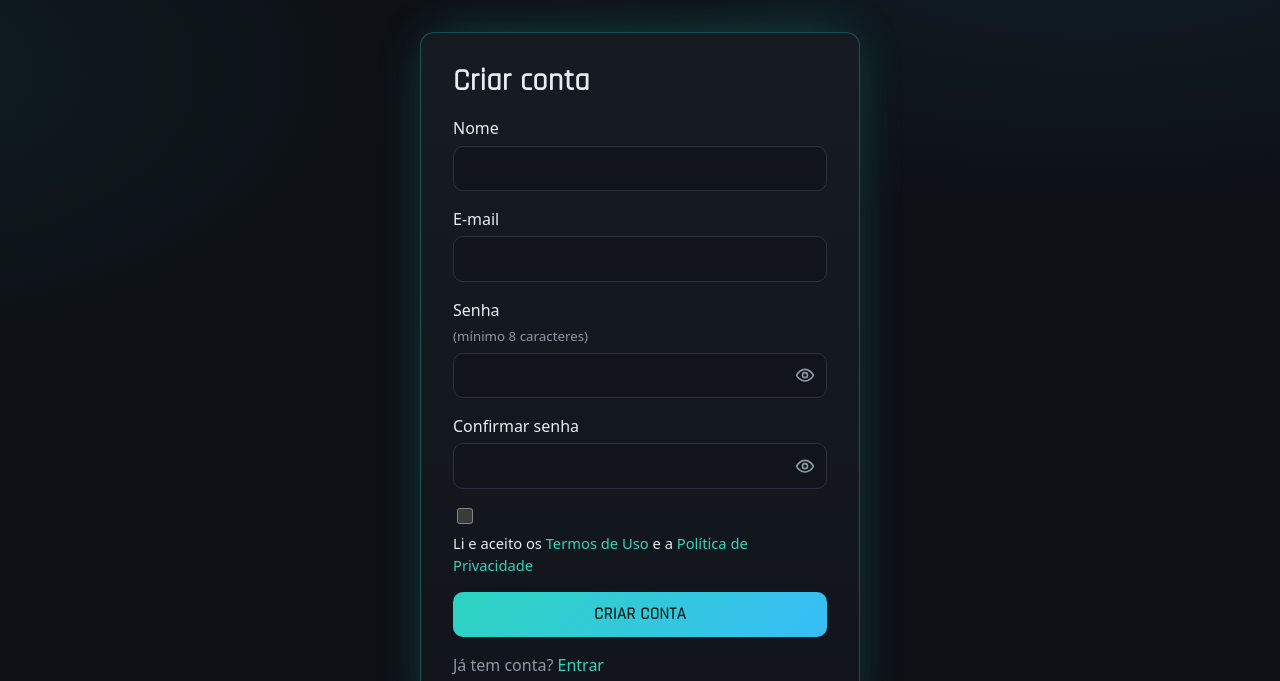
cadastro › não envia se as senhas não conferem
Type "Ana" into the field labelled "Nome" at coordinates (640, 168), box [453,146,827,191]
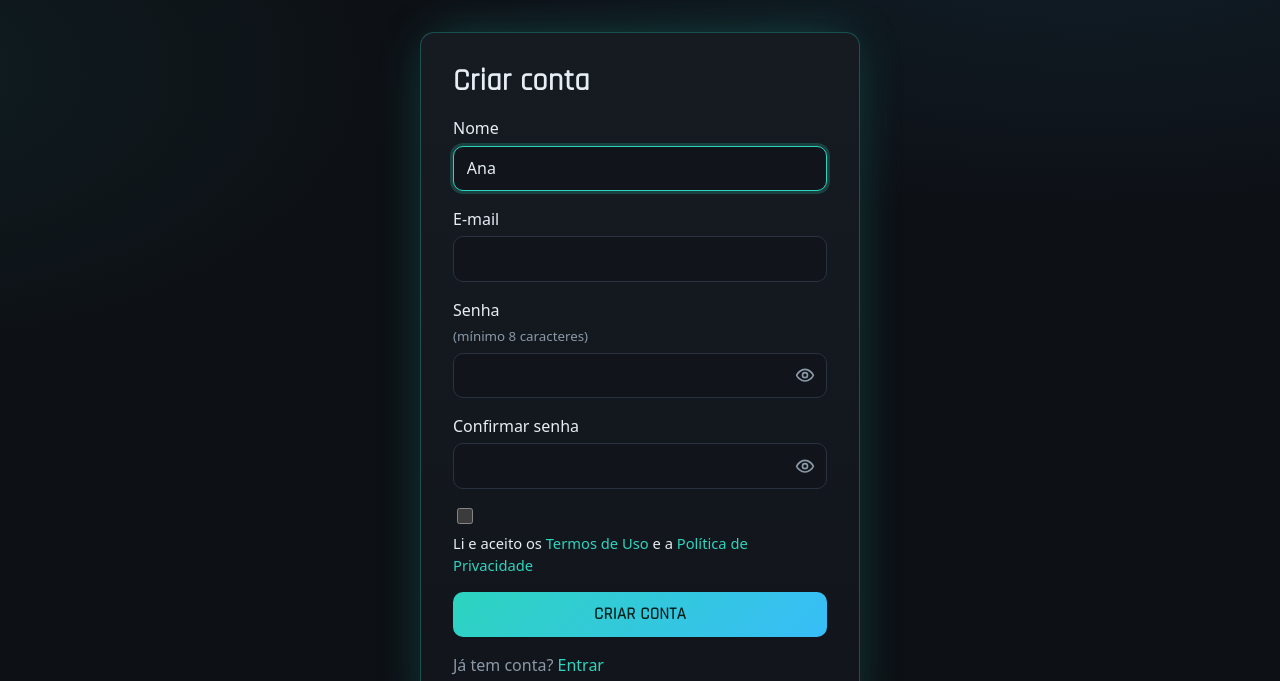
Type "ana@teste.com" into the field labelled "E-mail" at coordinates (640, 259), box [453,236,827,282]
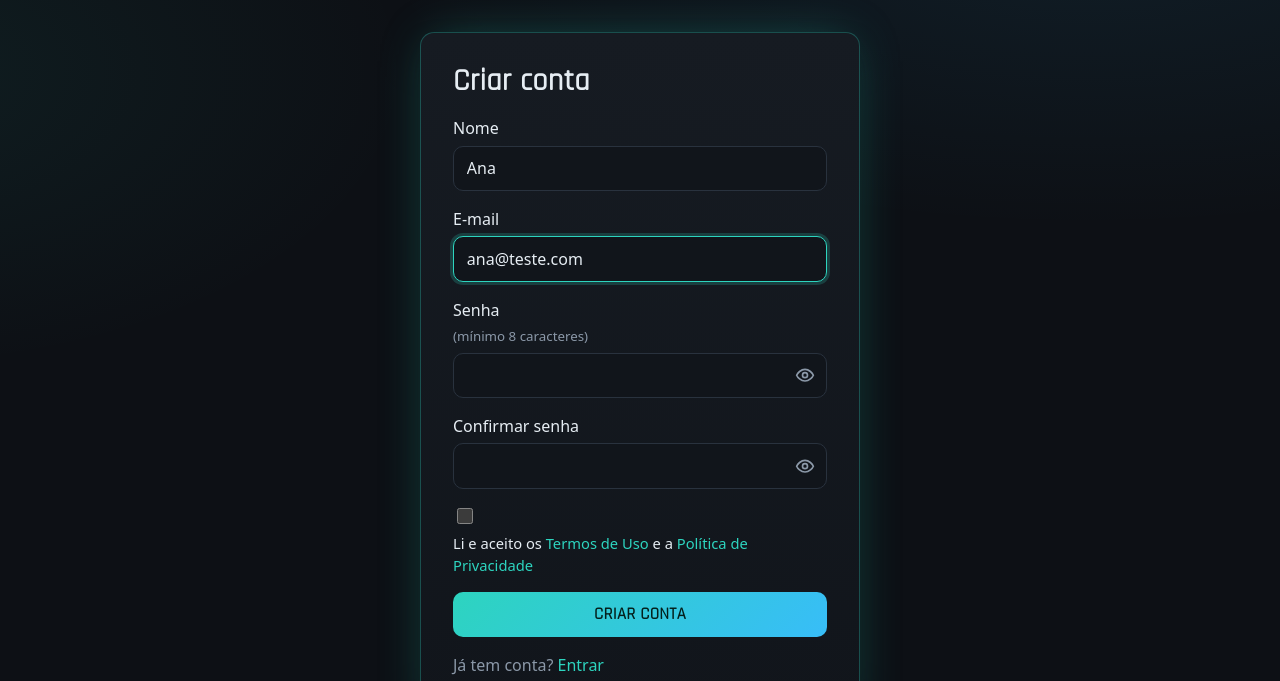
Type "senhaForte123" into the password field labelled "Senha (mínimo 8 caracteres)" at coordinates (640, 375), box [453,353,827,398]
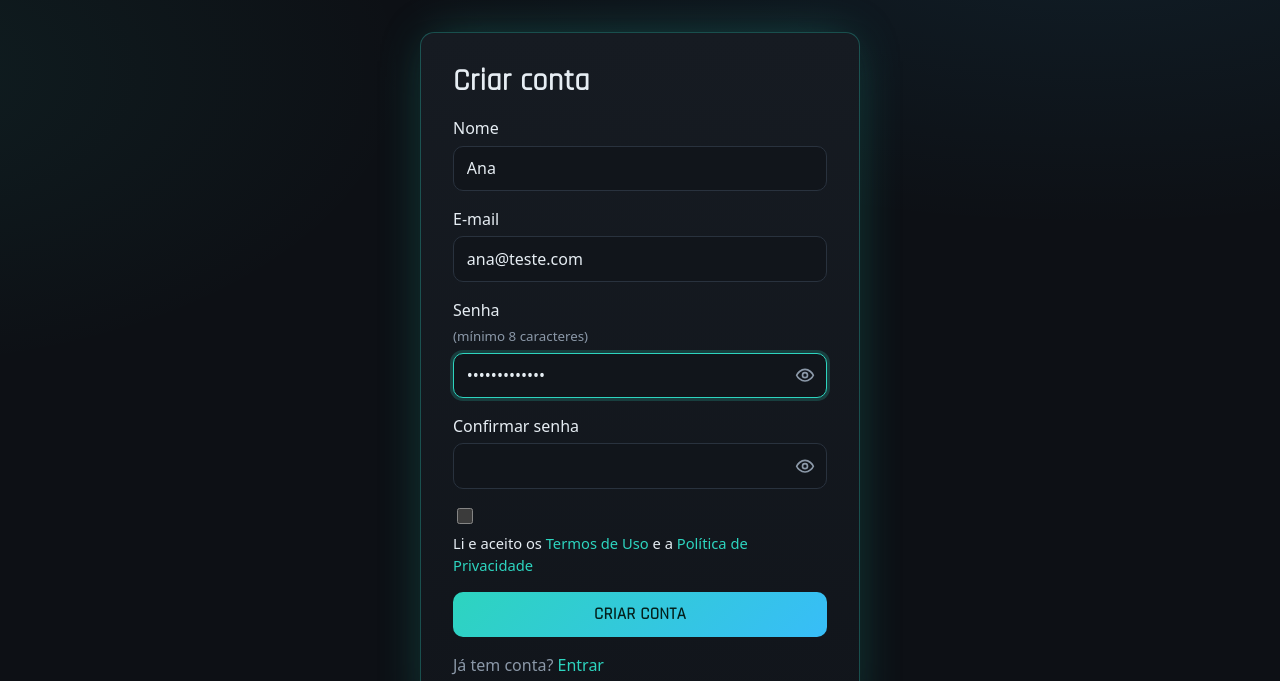
Type "outraSenha123" into the password field labelled "Confirmar senha" at coordinates (640, 466), box [453,444,827,489]
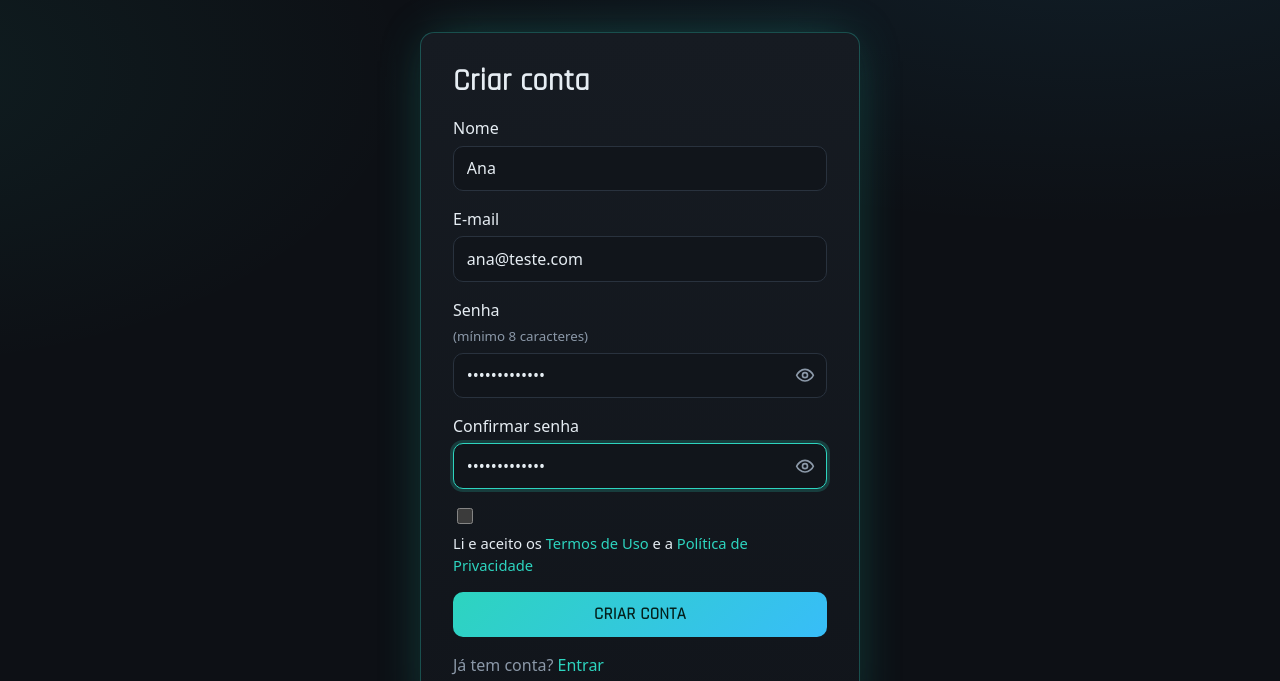
Click the checkbox labelled "Li e aceito os Termos de Uso e a Política de Privacidade" at coordinates (465, 516), box [457,508,473,524]
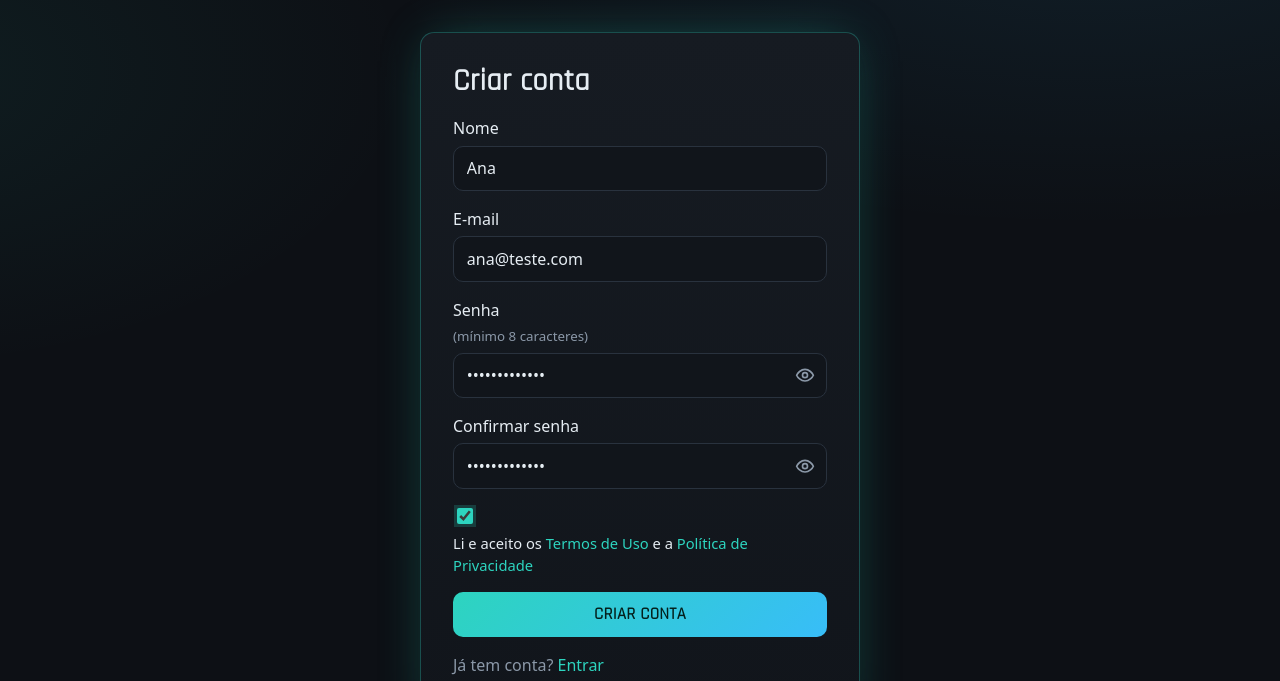
Click the button "Criar conta" at coordinates (640, 615), box [453,592,827,637]
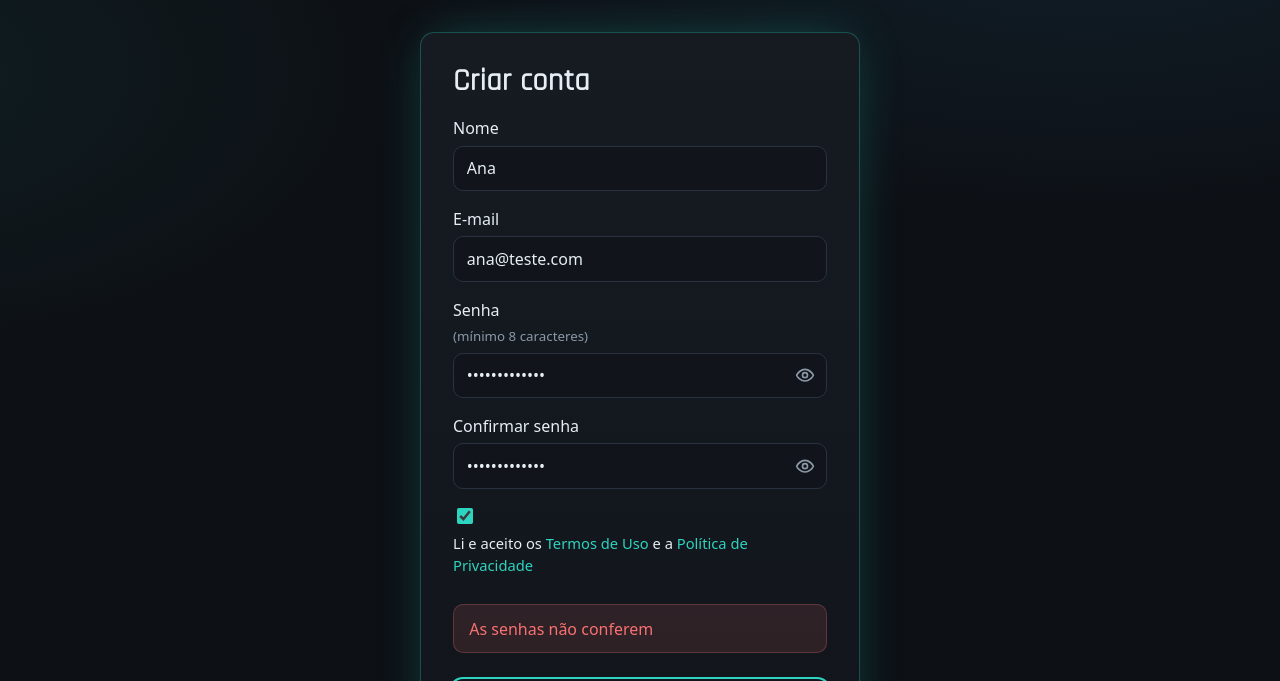
Now the text "As senhas não conferem" is shown, box [453,604,827,653]
